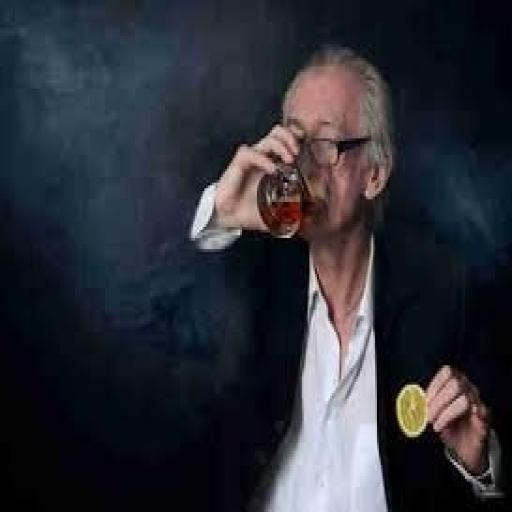drinking: (255, 161, 304, 238)
